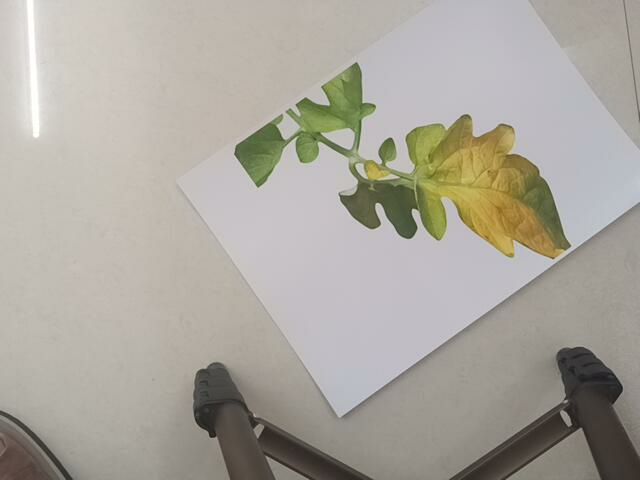Tomamto_Yellow_Disease: (223, 48, 599, 272)
